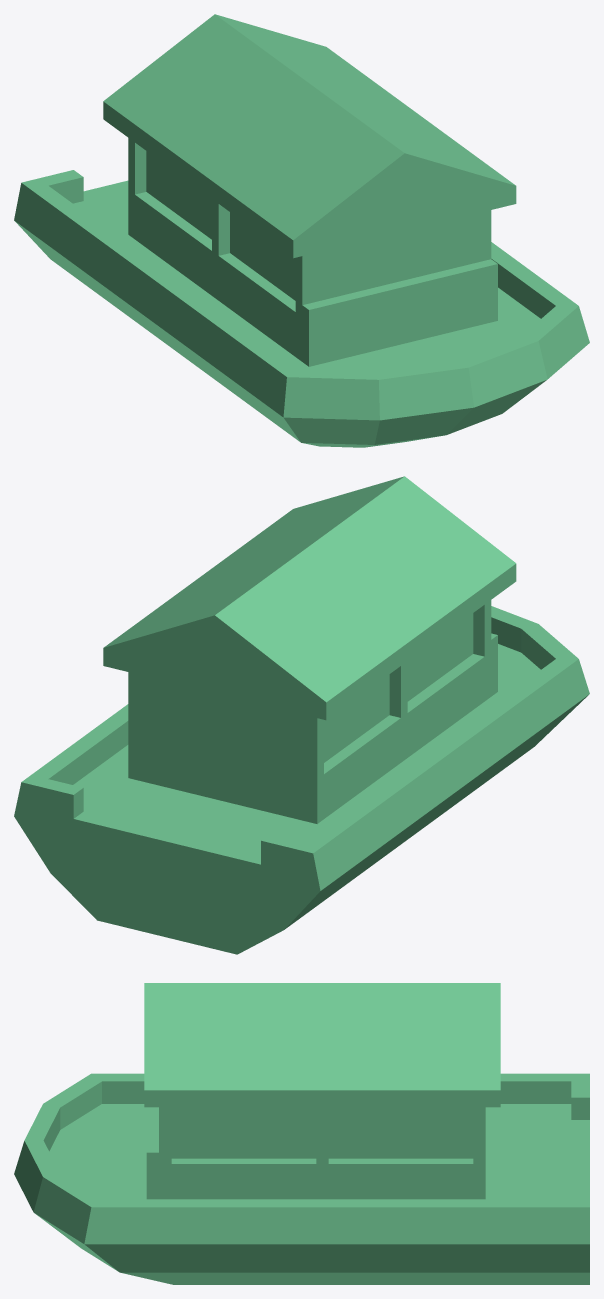
Rendered from watercraftpack_026.glb.
3 renders of one model, top to bottom at view 1: azimuth 30°, elevation 25°; view 2: azimuth 150°, elevation 25°; view 3: azimuth 270°, elevation 25°, orthographic. The views are drawn at different scales.
Visible parts, largest first — view 1: Mesh1 Group1 Model; view 2: Mesh1 Group1 Model; view 3: Mesh1 Group1 Model.
Part boxes in pixels (x1,y1,x2,y2): Mesh1 Group1 Model: (14,14,589,447); Mesh1 Group1 Model: (14,476,589,954); Mesh1 Group1 Model: (14,983,589,1284).
Bounding box in the file's own units: 2.68 × 2.4 × 4.64.
